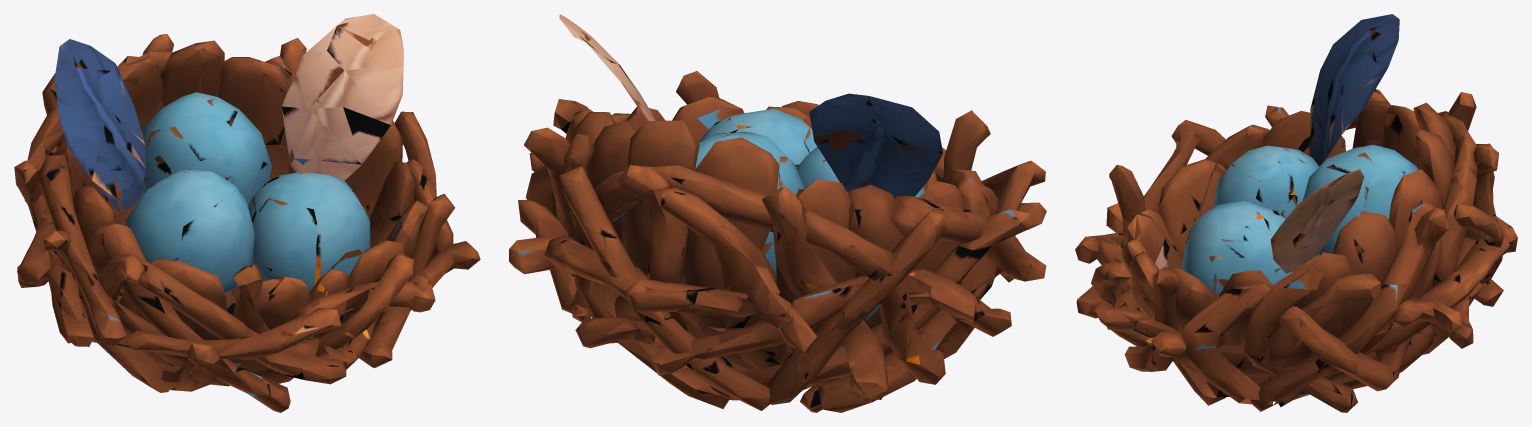
Rendered from nido.glb.
3 views of the same model, side by side, from view 1: azimuth 30°, elevation 25°; view 2: azimuth 150°, elevation 25°; view 3: azimuth 270°, elevation 25° (orthographic). The views are drawn at different scales.
Visible parts, largest first — view 1: nido_malla; view 2: nido_malla; view 3: nido_malla.
Part boxes in pixels (x1,y1,x2,y2): nido_malla: (14, 14, 480, 412); nido_malla: (509, 14, 1046, 412); nido_malla: (1075, 14, 1517, 412).
Bounding box in the file's own units: 0.4569 × 0.3642 × 0.4608.
Materials: 1 (1 with a texture image).
